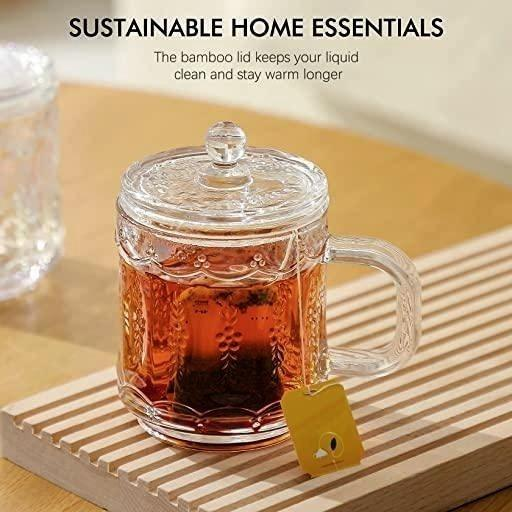glass-mug: (102, 122, 427, 457)
